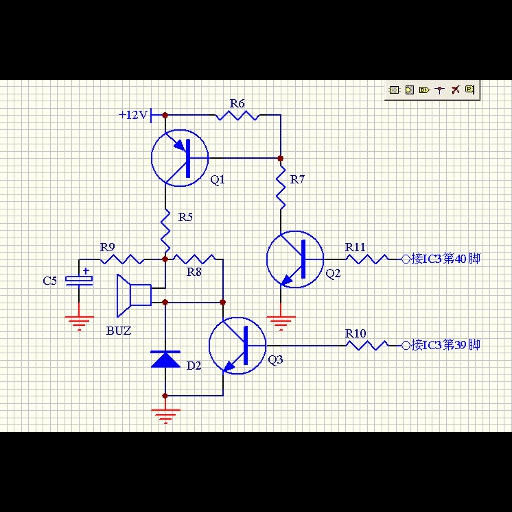firstdiode: (145, 348, 182, 372)
gnd: (61, 312, 96, 334), (263, 315, 302, 333), (148, 407, 184, 425)
loudspeaker: (113, 272, 155, 318)
npn: (221, 321, 257, 372), (278, 234, 312, 284)
pnp: (164, 132, 199, 183)
secondpolarcapacitor: (61, 267, 98, 291)
secondresistance: (340, 337, 394, 355), (209, 107, 265, 124), (271, 158, 288, 211), (157, 203, 172, 255), (339, 253, 395, 266), (174, 253, 220, 265)
